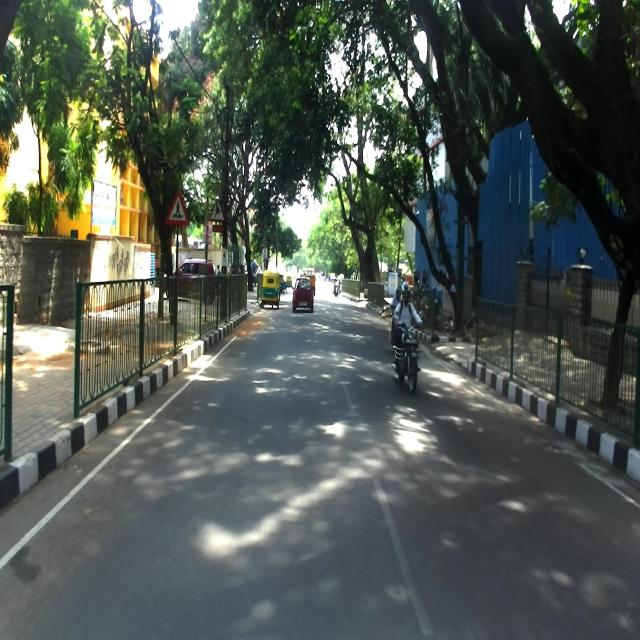motorcycle: (391, 311, 422, 397)
